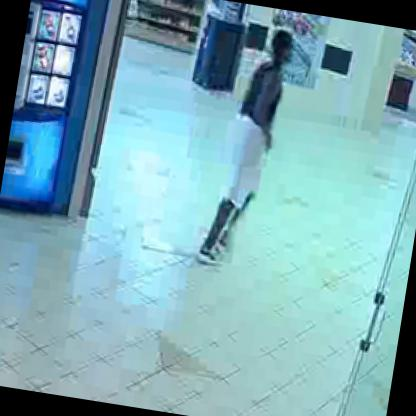Human Body: (194, 17, 294, 271)
